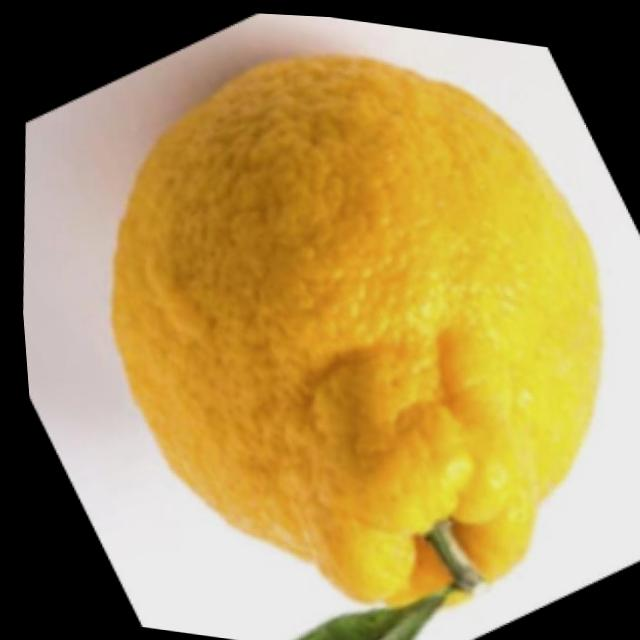Orange: (65, 19, 638, 635)
